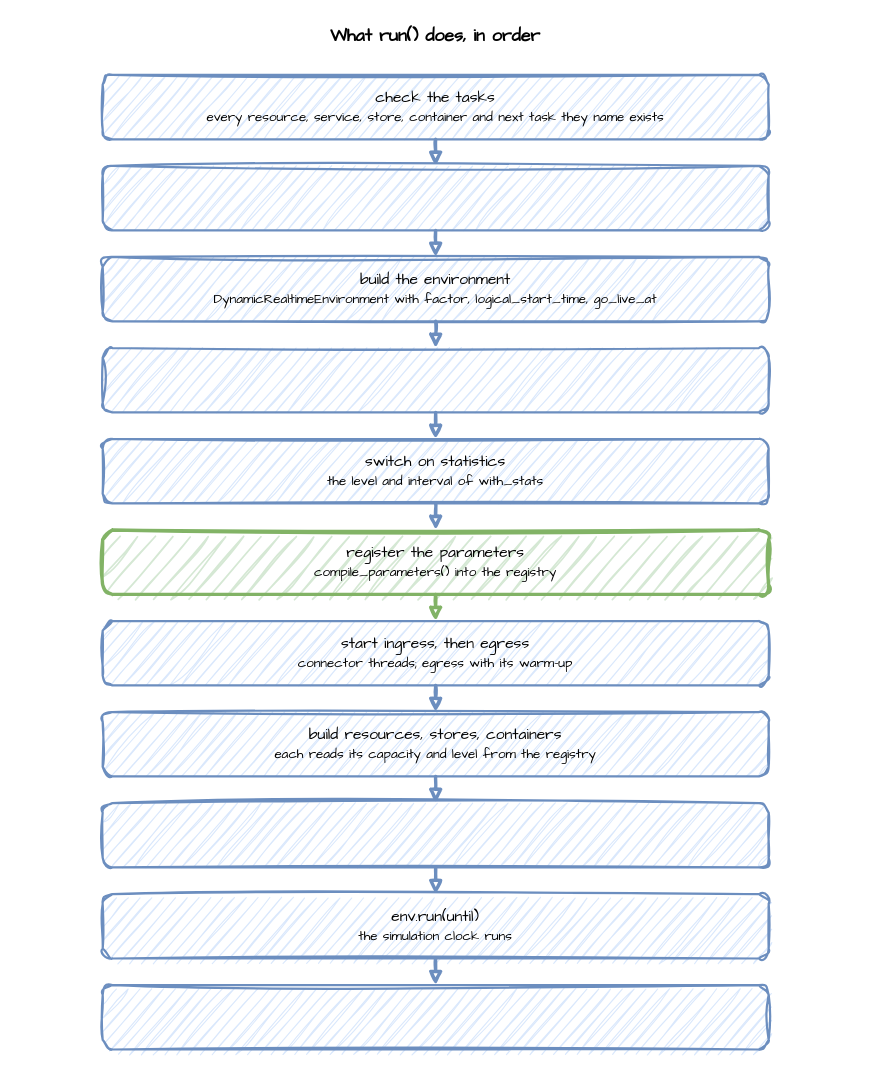
Image size: 870x1069. Some labels were removed from this diagram. Here are the shapes that lost their labels. From the top down, the centre of each, then its label:
[435,197]: run.before a blueprint's setup functions, such as creating topics
[435,379]: make the Sampler from random_seed, or from a seed drawn and logged
[435,834]: start loops and processes arrival loops, telemetry loops, add_process
[435,1016]: teardown, in finally last statistics, flush and stop egress, stop ingress
